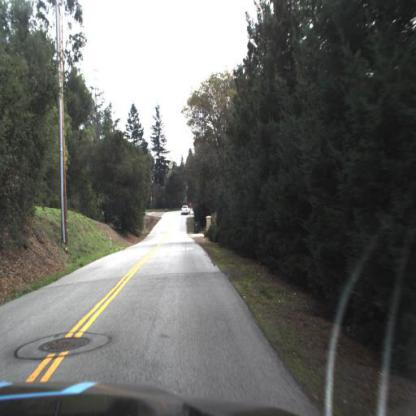car: (179, 201, 193, 219), (179, 202, 193, 218)
